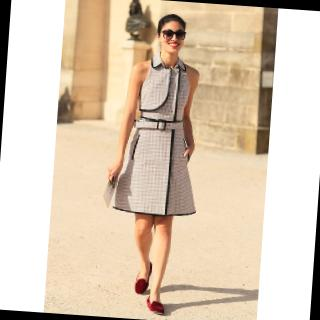loafers: (128, 258, 171, 320)
